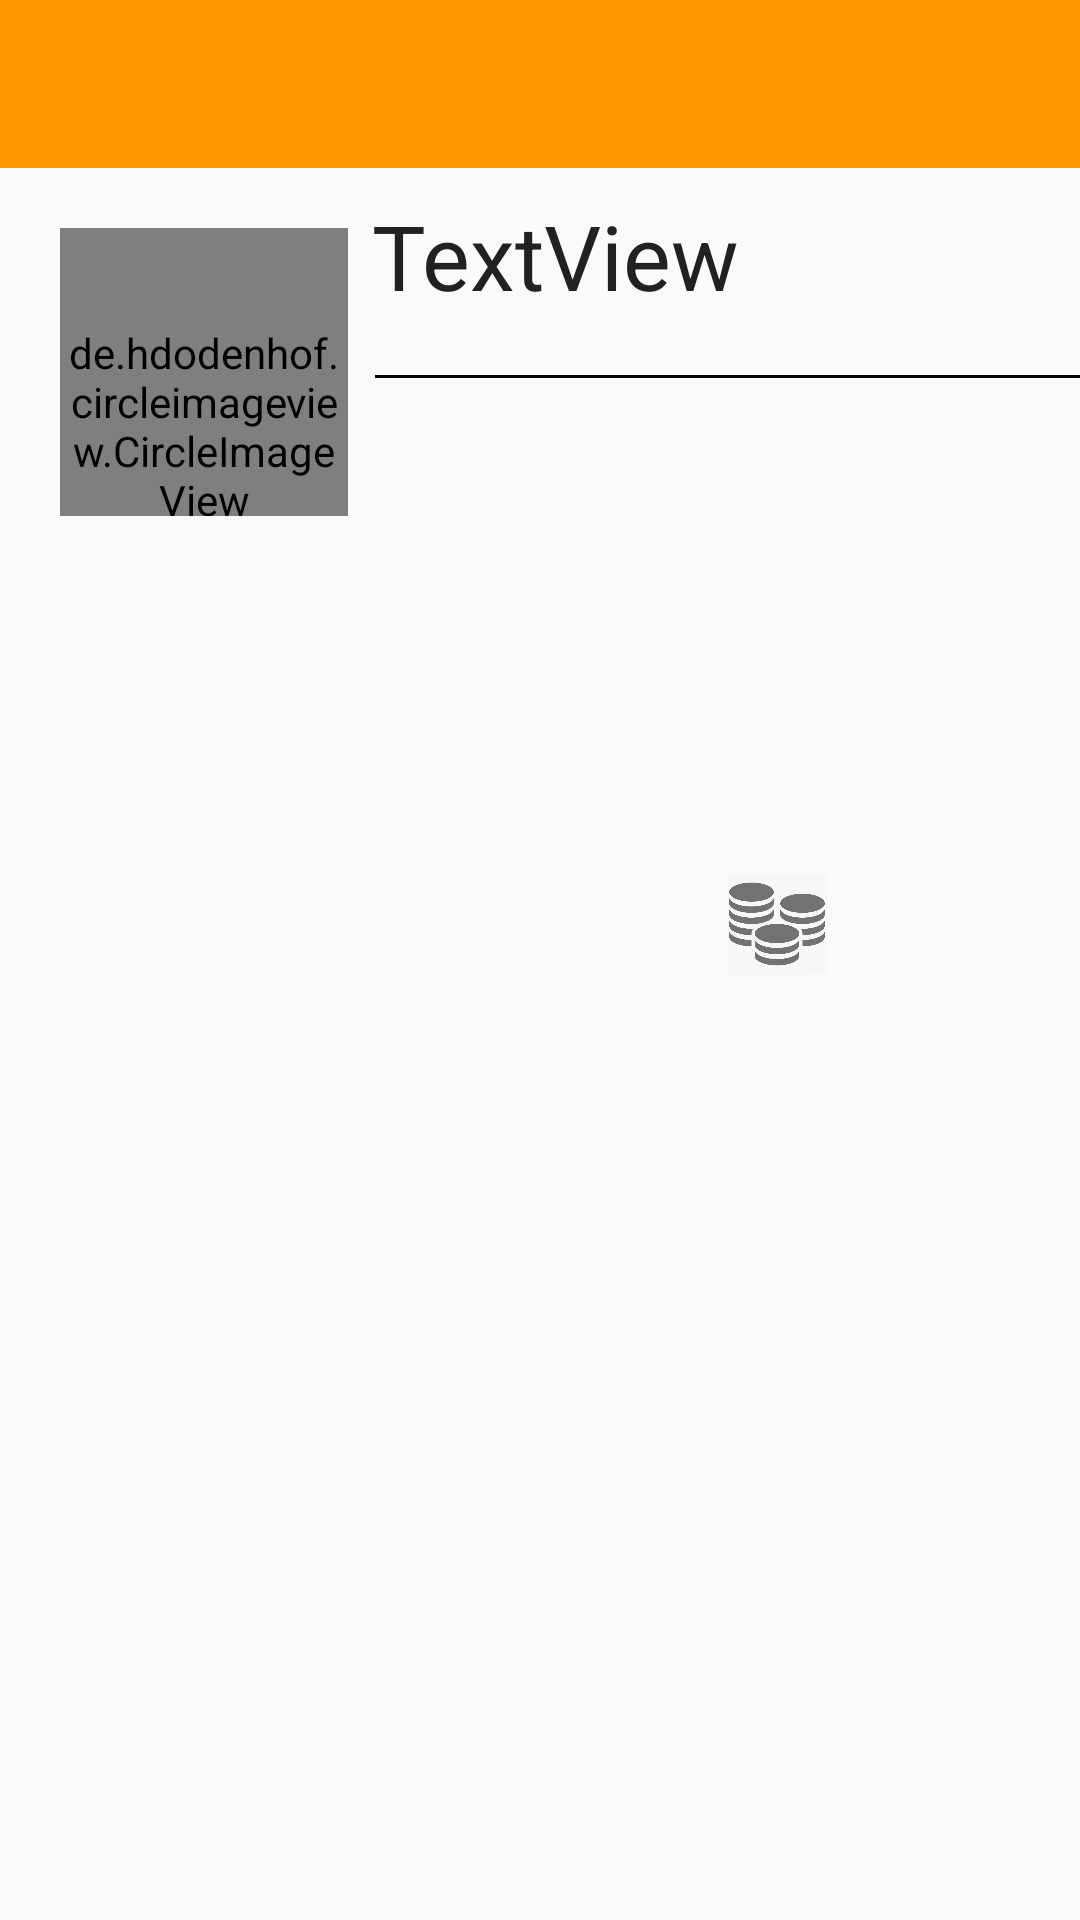

Screen size 1080px x 1920px. Icon name, then its center in pixels as point (x, y):
coin: point (777, 924)
